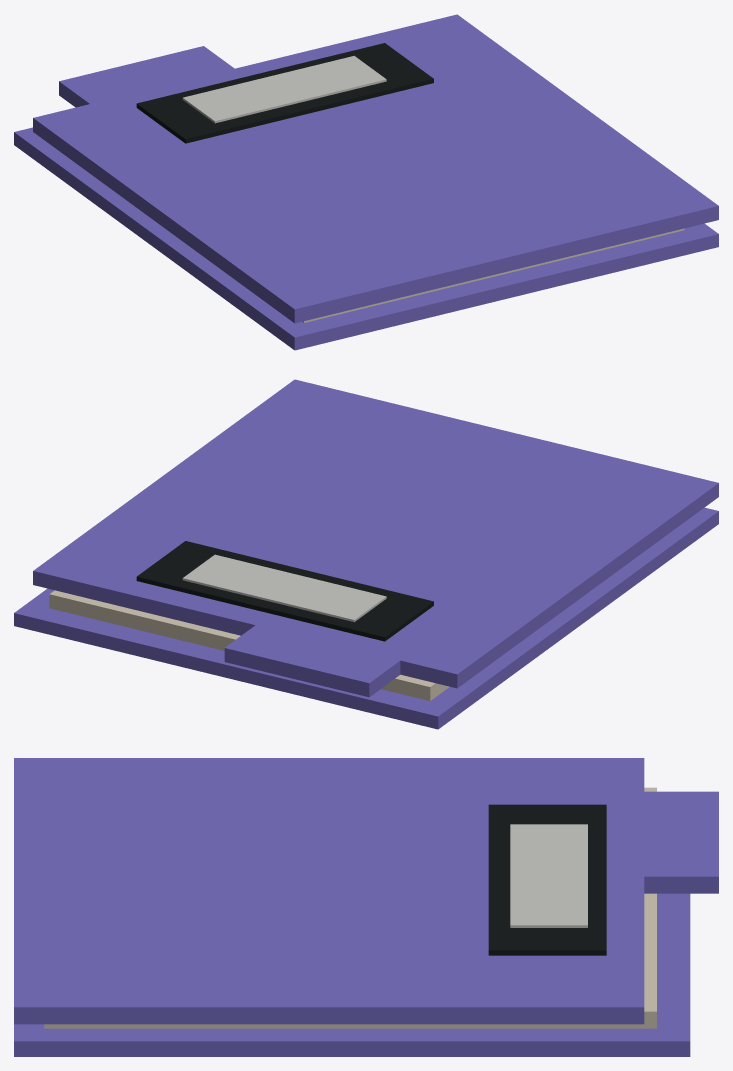
File: CMU3DFolderBlue.glb
The picture shows the model from 3 angles, top to bottom: view 1: azimuth 30°, elevation 25°; view 2: azimuth 150°, elevation 25°; view 3: azimuth 270°, elevation 25°; orthographic projection. The views are drawn at different scales.
Parts seen in each view (by area): view 1: folder cover, folder back, label inset, paper label, upper tab, file pages; view 2: folder cover, folder back, label inset, upper tab, paper label, file pages; view 3: folder cover, folder back, label inset, paper label, upper tab, file pages.
Boxes of the visible parts, x1,y1,x2,y2 form: folder cover: (33,14,718,323); folder back: (14,127,718,350); label inset: (136,43,433,143); paper label: (182,55,386,123); upper tab: (59,46,235,107); file pages: (302,228,684,322); folder cover: (33,379,718,688); folder back: (14,507,718,729); label inset: (136,541,433,641); upper tab: (224,625,400,697); paper label: (182,554,386,622); file pages: (49,590,449,700); folder cover: (14,758,644,1024); folder back: (14,893,690,1056); label inset: (488,804,606,955); paper label: (510,824,587,927); upper tab: (640,791,718,893); file pages: (44,787,656,1028).
Size of the model in its own units: 0.41 by 0.044 by 0.49.
